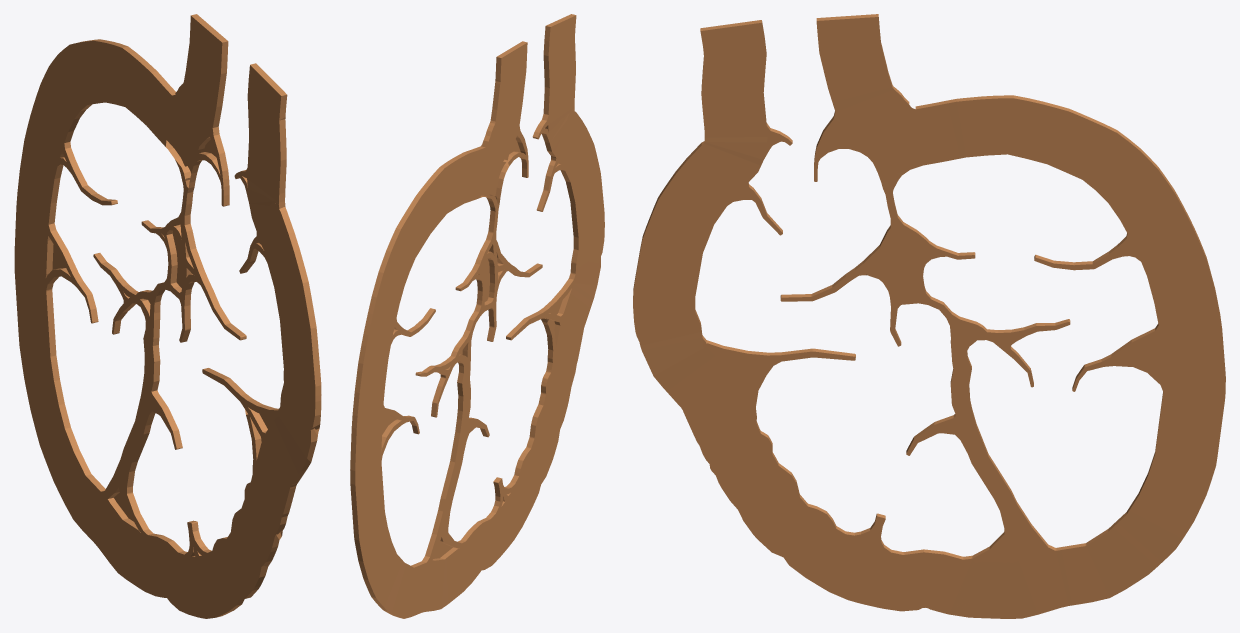
The model's file is Level v1.1.fbx.
The picture shows the model from 3 angles, left to right: view 1: azimuth 30°, elevation 25°; view 2: azimuth 150°, elevation 25°; view 3: azimuth 270°, elevation 25°; orthographic projection. The views are drawn at different scales.
Parts seen in each view (by area): view 1: Plane.037; view 2: Plane.037; view 3: Plane.037.
Part boxes in pixels (left/top/right/bottom): Plane.037: left=14, top=14, right=321, bottom=618; Plane.037: left=350, top=14, right=604, bottom=618; Plane.037: left=633, top=14, right=1225, bottom=618.
Bounding box in the file's own units: 51.02 × 4668 × 4166.
